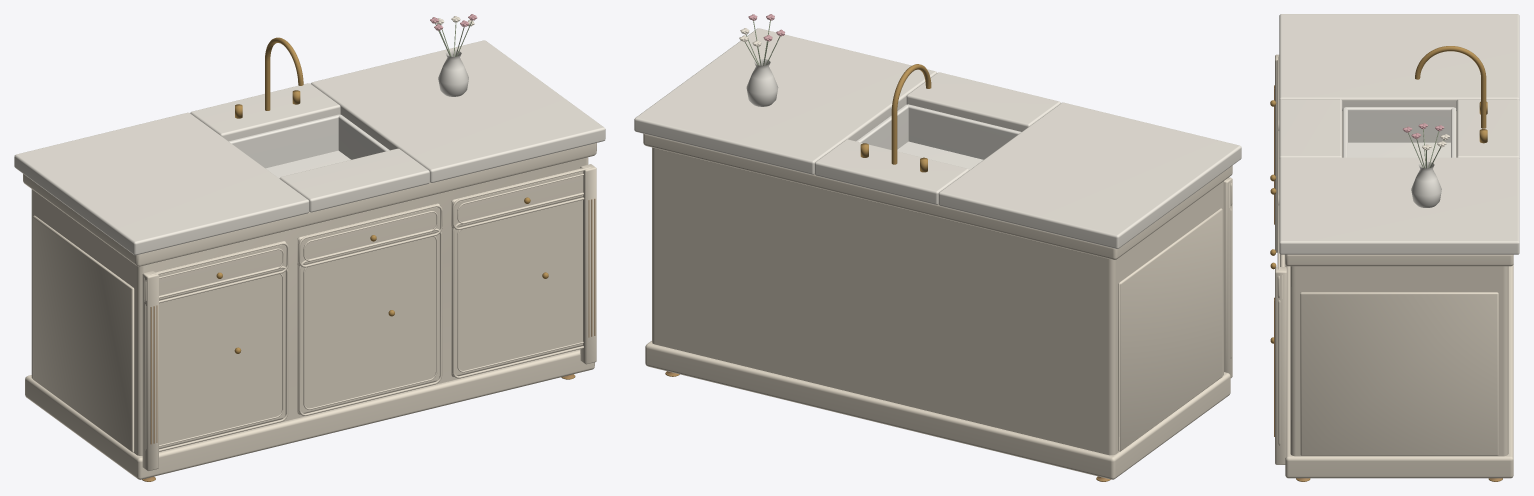
File: island.glb
3 views of the same model, side by side, from view 1: azimuth 30°, elevation 25°; view 2: azimuth 150°, elevation 25°; view 3: azimuth 270°, elevation 25° (orthographic). The views are drawn at different scales.
Visible parts, largest first — view 1: island__Warm aged ivory lacquer, island__Honed ivory marble, island__Glazed ivory ceramic, island__Honey ash exposed edges, island__Antique brass; view 2: island__Warm aged ivory lacquer, island__Honed ivory marble, island__Glazed ivory ceramic, island__Antique brass; view 3: island__Warm aged ivory lacquer, island__Honed ivory marble, island__Glazed ivory ceramic, island__Antique brass, island__Honey ash exposed edges.
Part boxes in pixels (<box>): island__Warm aged ivory lacquer: <box>23,143,596,479</box>; island__Honed ivory marble: <box>14,40,605,255</box>; island__Glazed ivory ceramic: <box>229,50,468,178</box>; island__Honey ash exposed edges: <box>142,198,595,481</box>; island__Antique brass: <box>142,37,574,481</box>; island__Warm aged ivory lacquer: <box>643,133,1232,479</box>; island__Honed ivory marble: <box>634,28,1241,248</box>; island__Glazed ivory ceramic: <box>746,59,1021,169</box>; island__Antique brass: <box>665,64,1109,481</box>; island__Warm aged ivory lacquer: <box>1275,54,1513,478</box>; island__Honed ivory marble: <box>1279,14,1519,254</box>; island__Glazed ivory ceramic: <box>1342,107,1456,207</box>; island__Antique brass: <box>1270,46,1502,481</box>; island__Honey ash exposed edges: <box>1274,85,1502,481</box>.
Bounding box in the file's own units: 1.8 × 1.22 × 0.83.
